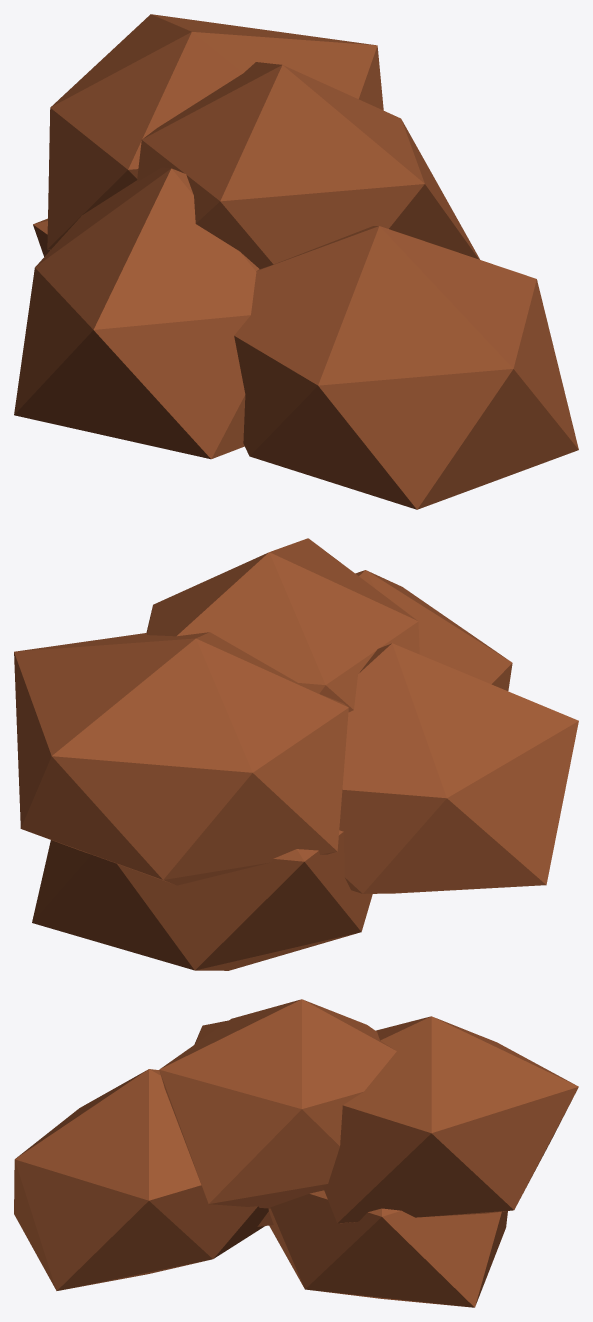
Rendered from tree_rustwood_s_crown.fbx.
3 renders of one model, top to bottom at view 1: azimuth 30°, elevation 25°; view 2: azimuth 150°, elevation 25°; view 3: azimuth 270°, elevation 25°, orthographic. The views are drawn at different scales.
Visible parts, largest first — view 1: tree_rustwood_s_crown; view 2: tree_rustwood_s_crown; view 3: tree_rustwood_s_crown.
Boxes of the visible parts, x1,y1,x2,y2 form: tree_rustwood_s_crown: (14,14,578,509); tree_rustwood_s_crown: (14,538,578,970); tree_rustwood_s_crown: (14,999,578,1307).
Size of the model in its own units: 901 by 736 by 1242.
